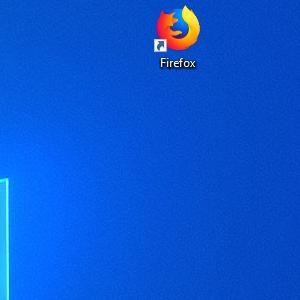firefox: (153, 5, 201, 53)
